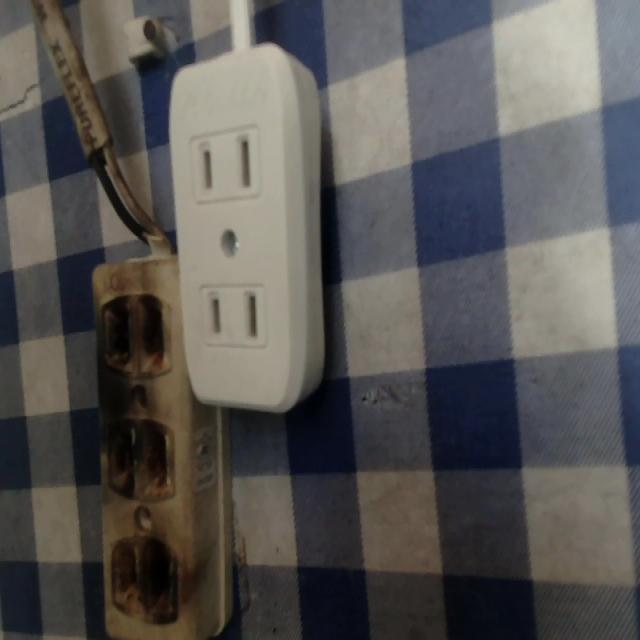-: (93, 289, 173, 376), (109, 533, 183, 624), (104, 417, 177, 507)
